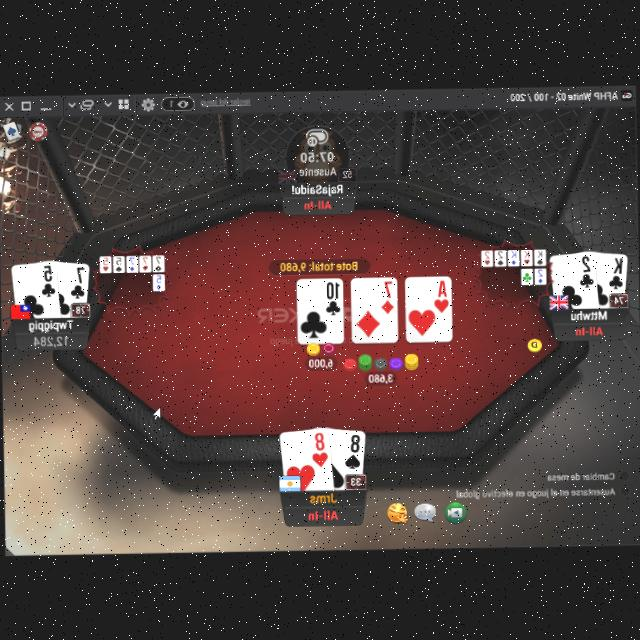2c: (577, 252, 595, 288)
5c: (38, 260, 58, 297)
6s: (342, 430, 363, 470)
7c: (68, 264, 88, 298)
7d: (379, 278, 394, 314)
8h: (308, 428, 329, 468)
8s: (341, 430, 362, 469)
Ah: (432, 276, 449, 312)
Kc: (606, 253, 624, 287)
Tc: (323, 278, 342, 316)
all_in_symbol: (306, 505, 340, 523), (302, 196, 332, 210), (574, 322, 602, 335)
bet_text: (366, 369, 396, 383), (307, 354, 334, 368)
dealer: (526, 334, 544, 352)
pot_text: (279, 258, 357, 270)
stack_text: (32, 332, 67, 346)
